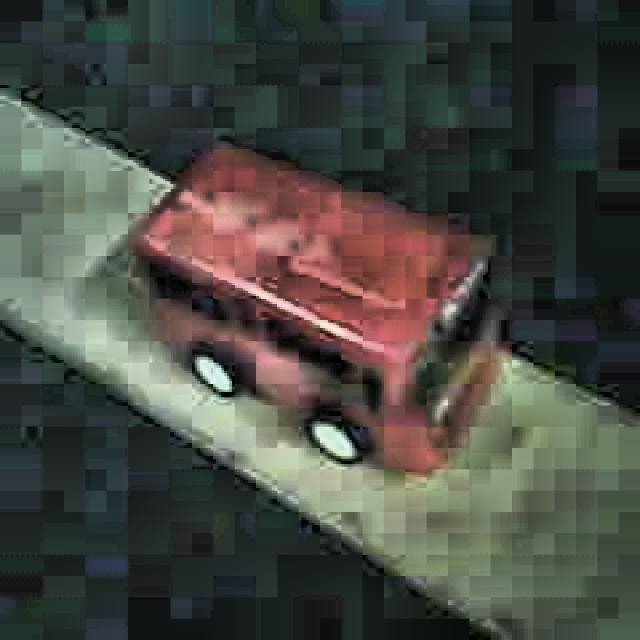bus: (127, 142, 500, 479)
